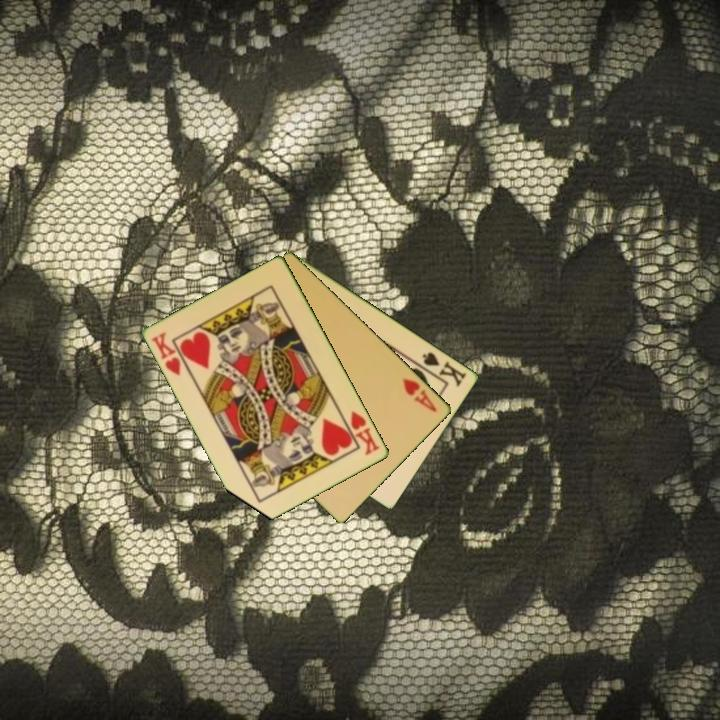Ah: (399, 374, 440, 415)
Kh: (339, 407, 383, 458), (148, 328, 192, 379)
Ks: (415, 348, 469, 390)
